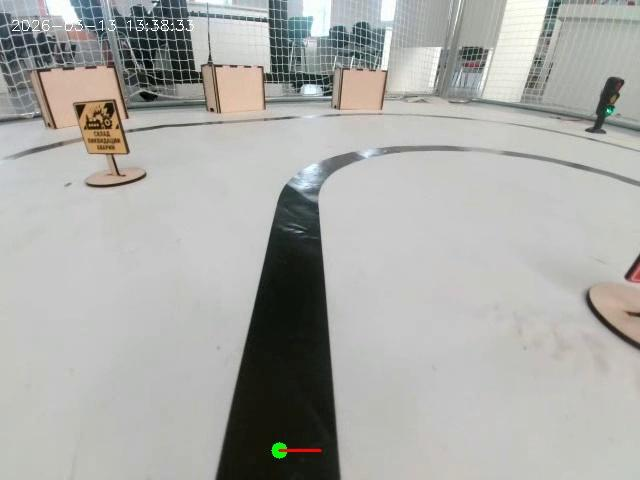industrial: (45, 94, 155, 195)
